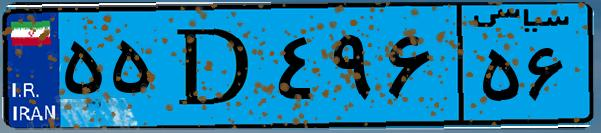4: (270, 28, 330, 110)
5: (57, 26, 110, 100), (475, 38, 525, 113), (110, 28, 158, 98)
6: (385, 28, 445, 110), (525, 38, 570, 115)
9: (330, 28, 385, 110)
D: (158, 12, 270, 120)
